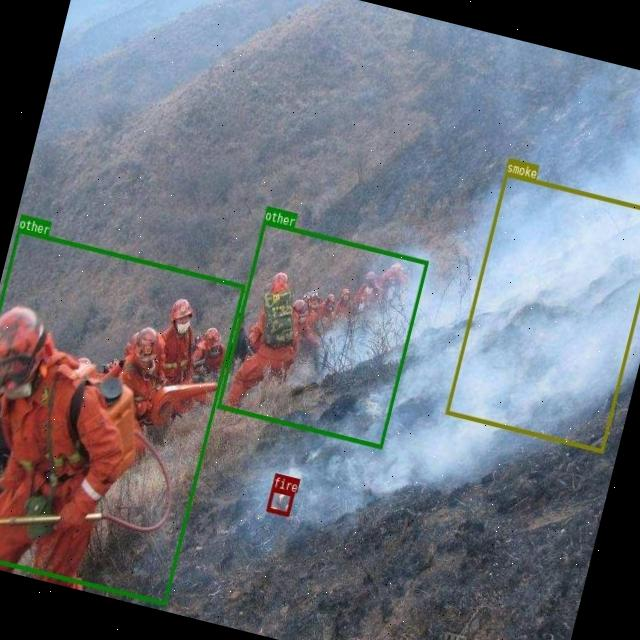fire: (266, 487, 294, 515)
smoke: (444, 170, 640, 452)
